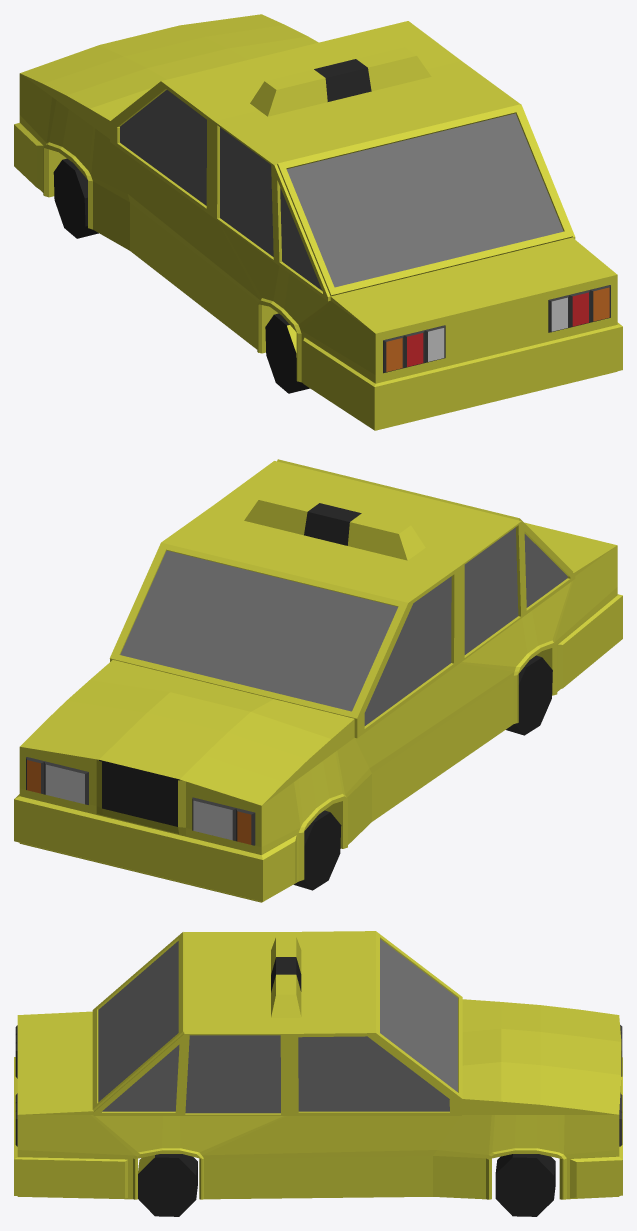
Rendered from Taxi1V2Colour.fbx.
3 renders of one model, top to bottom at view 1: azimuth 30°, elevation 25°; view 2: azimuth 150°, elevation 25°; view 3: azimuth 270°, elevation 25°, orthographic. The views are drawn at different scales.
Visible parts, largest first — view 1: Cube, Cube.008, Cube.007; view 2: Cube, Cube.006, Cube.005; view 3: Cube.
Part boxes in pixels (bbox=[...]): Cube: bbox=[14, 14, 622, 430]; Cube.008: bbox=[548, 285, 610, 332]; Cube.007: bbox=[383, 325, 445, 373]; Cube: bbox=[14, 459, 622, 902]; Cube.006: bbox=[192, 797, 255, 845]; Cube.005: bbox=[26, 757, 88, 804]; Cube: bbox=[14, 931, 622, 1216].
Size of the model in its own units: 250 by 218 by 600.
